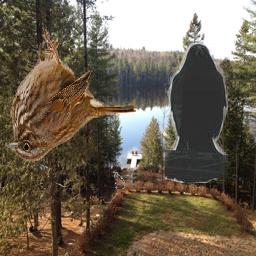Crow: (166, 43, 229, 183)
Sparrow: (6, 27, 137, 161)
Swallow: (113, 171, 125, 189)
